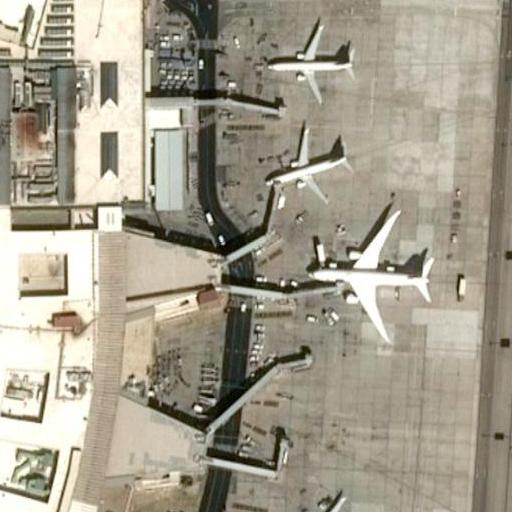Aircraft: (296, 214, 433, 340), (260, 17, 362, 100), (257, 125, 351, 204), (282, 490, 363, 512)
